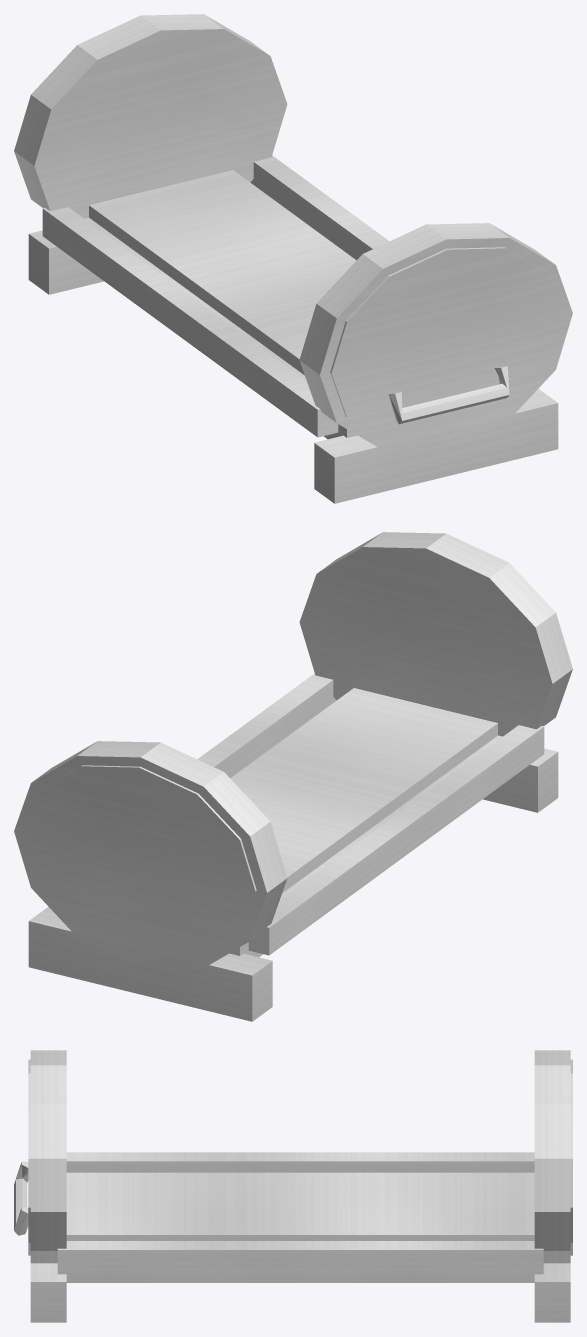
Rendered from growth_vat.obj.
The picture shows the model from 3 angles, top to bottom: view 1: azimuth 30°, elevation 25°; view 2: azimuth 150°, elevation 25°; view 3: azimuth 270°, elevation 25°; orthographic projection. The views are drawn at different scales.
Parts seen in each view (by area): view 1: growth_vat; view 2: growth_vat; view 3: growth_vat.
Boxes of the visible parts, bbox=[...] form: growth_vat: bbox=[14, 14, 572, 503]; growth_vat: bbox=[14, 532, 572, 1021]; growth_vat: bbox=[14, 1050, 572, 1322].
Size of the model in its own units: 0.86 by 0.77 by 1.86.
